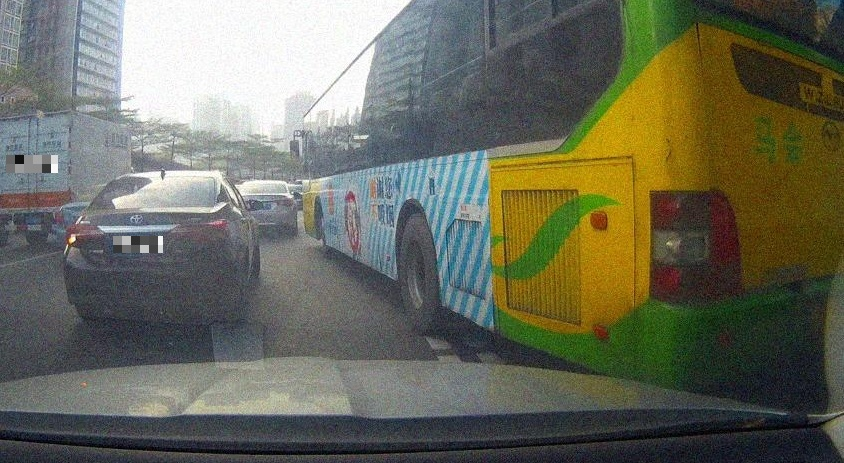L_light: (66, 225, 110, 249)
R_light: (168, 221, 226, 249)
T_light: (134, 201, 160, 207)
day-left: (63, 169, 230, 323)
plate_1: (6, 155, 58, 173)
plate_2: (113, 236, 163, 253)
